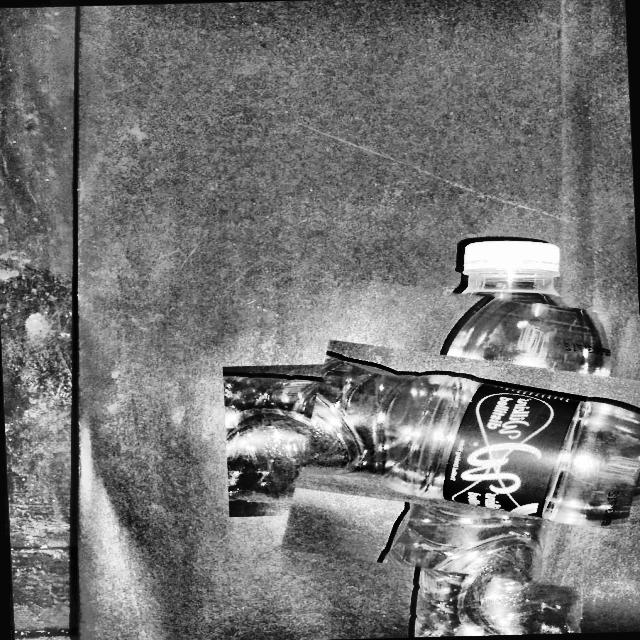Plastic-Bottle: (285, 281, 640, 589)
